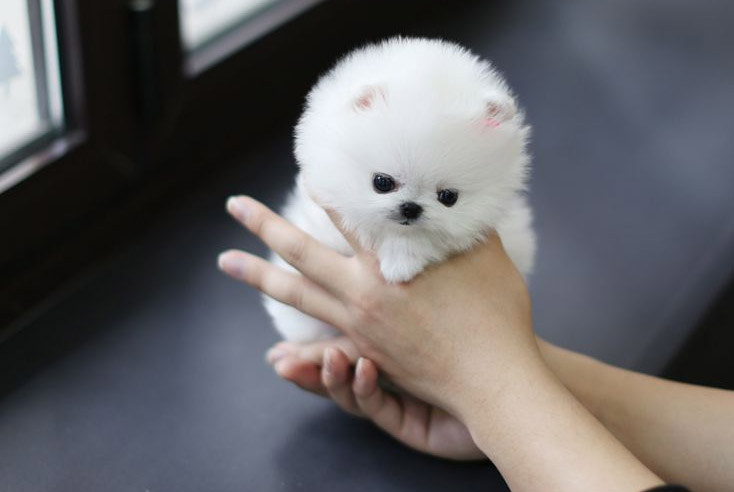pomeranian: (287, 27, 547, 276)
